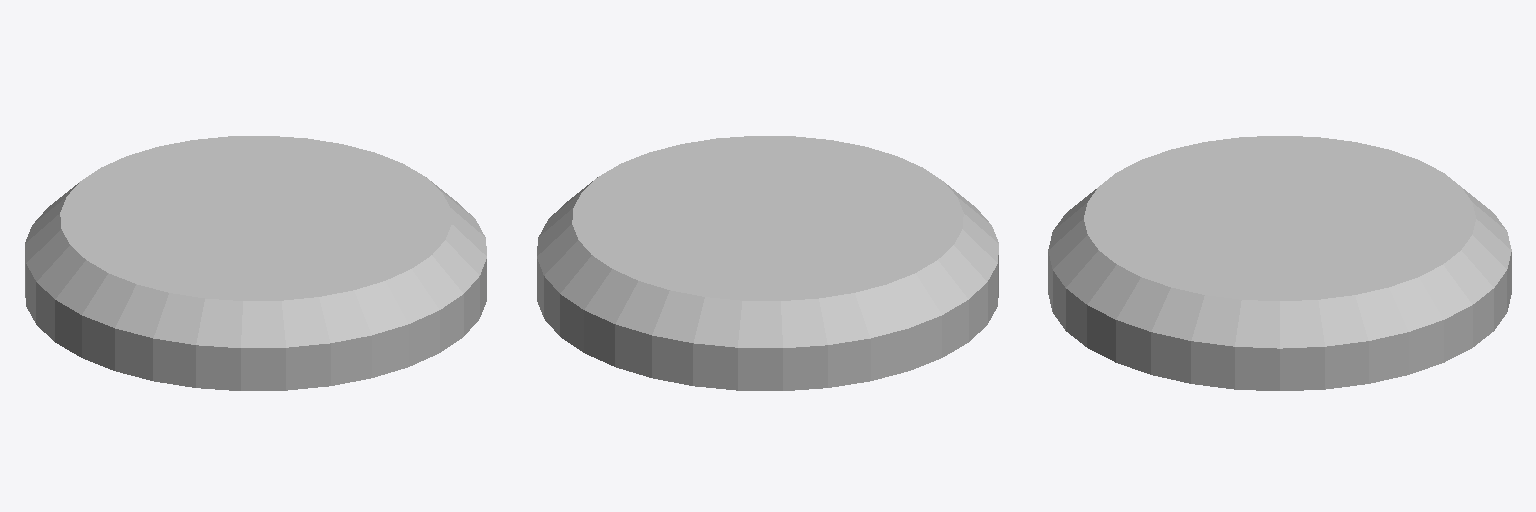
File: lamp_base.obj
The picture shows the model from 3 angles: view 1: azimuth 30°, elevation 25°; view 2: azimuth 150°, elevation 25°; view 3: azimuth 270°, elevation 25°; orthographic projection.
Parts seen in each view (by area): view 1: lamp_base_Sphere; view 2: lamp_base_Sphere; view 3: lamp_base_Sphere.
Boxes of the visible parts, x1=… form: lamp_base_Sphere: x1=25, y1=136, x2=486, y2=390; lamp_base_Sphere: x1=537, y1=136, x2=998, y2=390; lamp_base_Sphere: x1=1048, y1=136, x2=1511, y2=390.
Bounding box in the file's own units: 0.84 × 0.15 × 0.84.